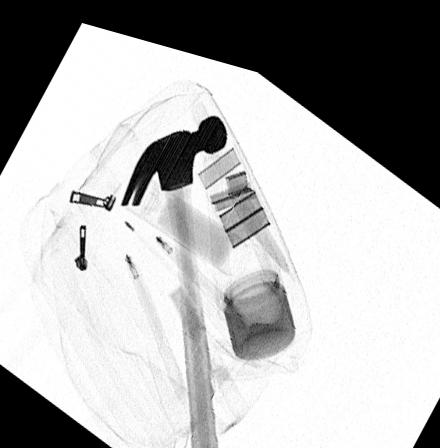Hammer: (120, 101, 228, 448)
